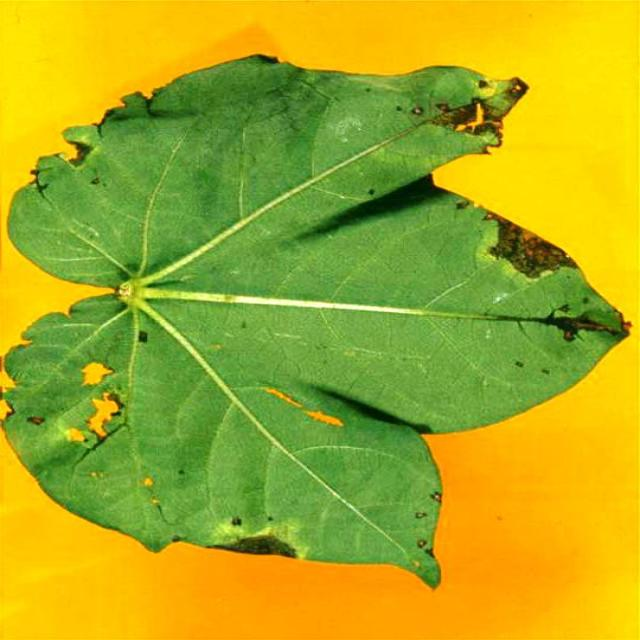Bacterial Blight: (343, 75, 590, 361)
